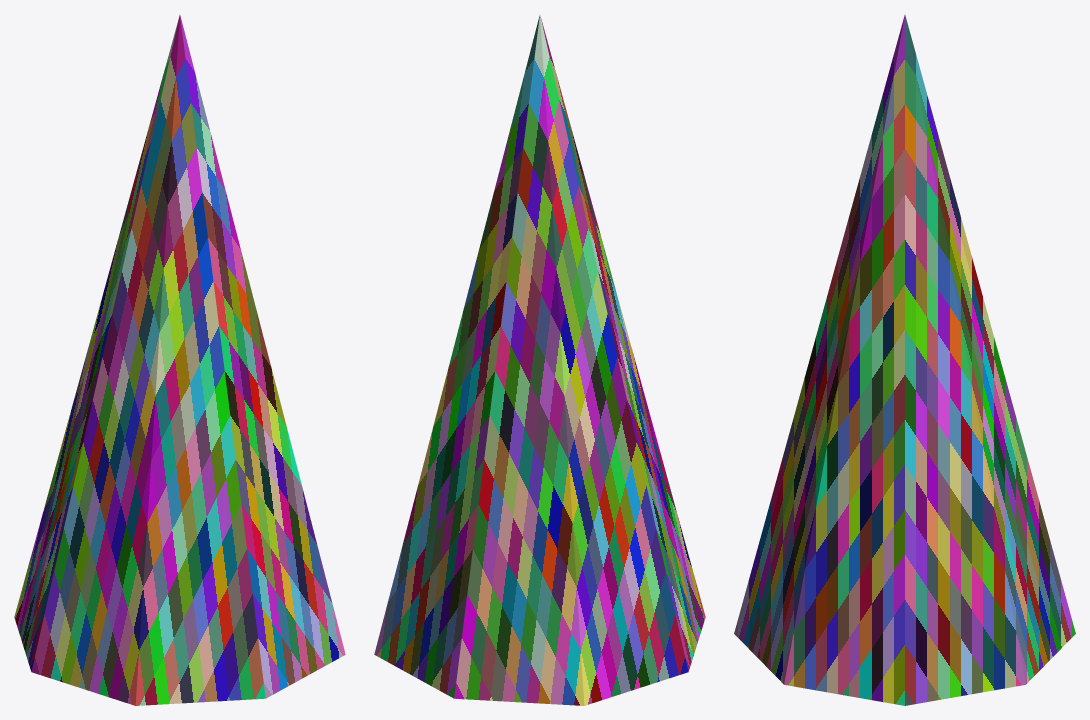
File: pine.glb
3 renders of one model, left to right at view 1: azimuth 30°, elevation 25°; view 2: azimuth 150°, elevation 25°; view 3: azimuth 270°, elevation 25°, orthographic.
Parts seen in each view (by area): view 1: pine; view 2: pine; view 3: pine.
Boxes of the visible parts, x1,y1,x2,y2 form: pine: (14, 15, 345, 705); pine: (374, 15, 705, 705); pine: (734, 15, 1075, 705).
Bounding box in the file's own units: 2 × 4 × 2.
Materials: 1 (1 with a texture image).
